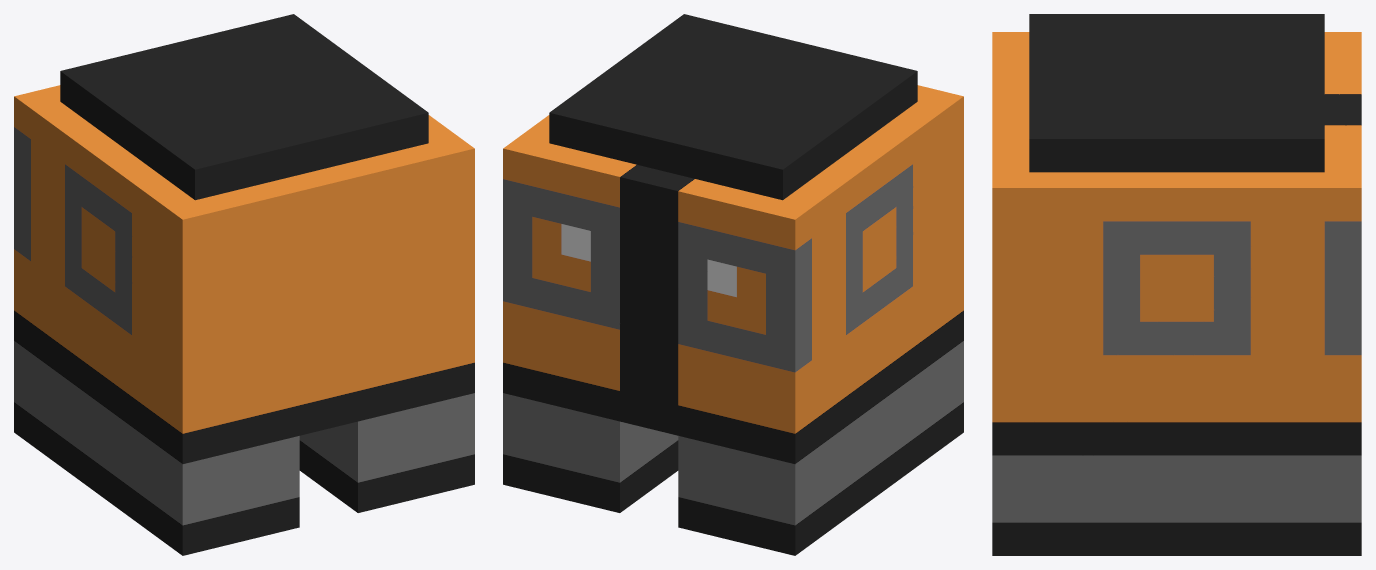
The model's file is Character_5.fbx.
3 renders of one model, left to right at view 1: azimuth 30°, elevation 25°; view 2: azimuth 150°, elevation 25°; view 3: azimuth 270°, elevation 25°, orthographic. The views are drawn at different scales.
Visible parts, largest first — view 1: Character_5; view 2: Character_5; view 3: Character_5.
Part boxes in pixels (x1,y1,x2,y2): Character_5: (14, 14, 474, 555); Character_5: (503, 14, 963, 555); Character_5: (992, 14, 1361, 555).
Bounding box in the file's own units: 10 × 12 × 10.
1 material, 1 textured.
